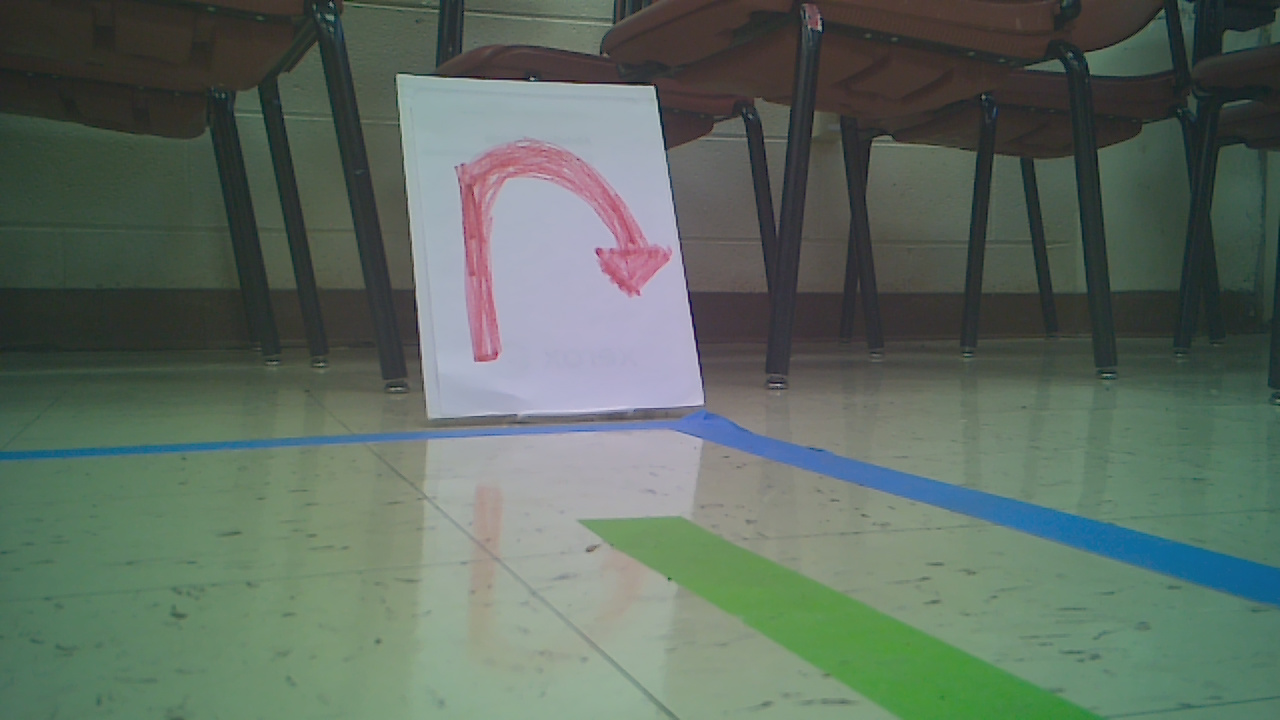greenline: (580, 517, 1107, 720)
uturn: (453, 141, 678, 367)
